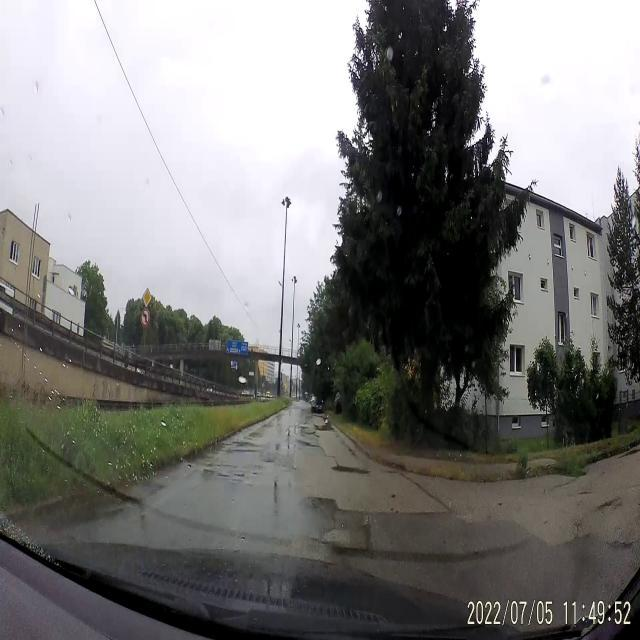Pothole: (332, 462, 370, 479), (302, 492, 322, 510), (297, 438, 321, 451), (314, 422, 332, 432), (306, 429, 320, 438), (203, 467, 215, 475), (286, 428, 290, 451), (218, 472, 230, 479), (234, 470, 244, 478), (262, 458, 274, 464), (252, 470, 262, 476), (232, 478, 244, 483), (299, 424, 308, 430), (293, 424, 297, 436)
